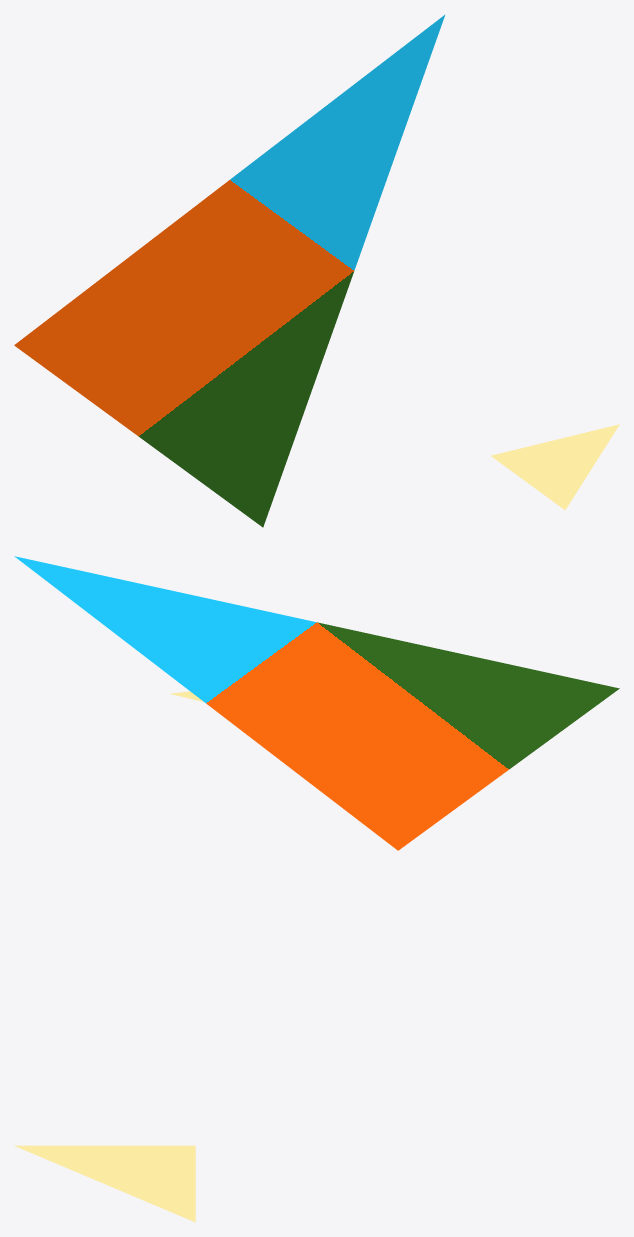
Rendered from SlopedTile.gltf.
3 renders of one model, top to bottom at view 1: azimuth 30°, elevation 25°; view 2: azimuth 150°, elevation 25°; view 3: azimuth 270°, elevation 25°, orthographic. The views are drawn at different scales.
Parts seen in each view (by area): view 1: Sloped tile with separate inset; view 2: Sloped tile with separate inset; view 3: Sloped tile with separate inset.
Part boxes in pixels (x1,y1,x2,y2): Sloped tile with separate inset: (14, 15, 619, 527); Sloped tile with separate inset: (14, 556, 619, 850); Sloped tile with separate inset: (14, 1145, 195, 1222).
Size of the model in its own units: 1 by 0.625 by 1.
2 materials, 1 textured.
